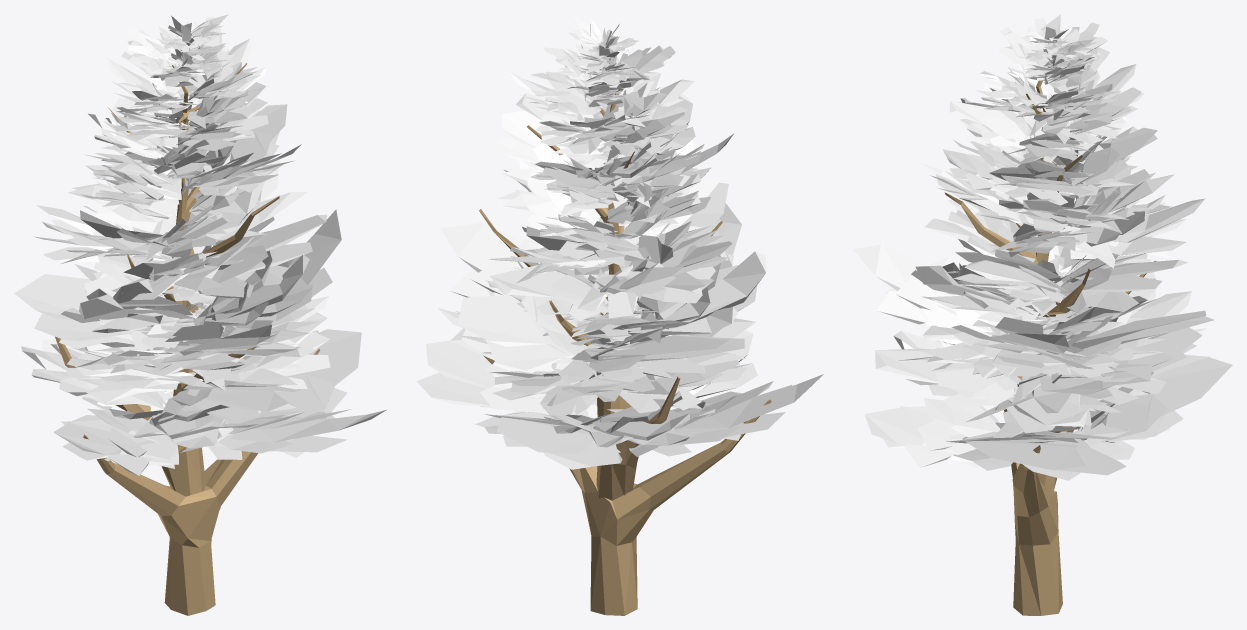
File: SnowtulipB-1.fbx
3 views of the same model, side by side, from view 1: azimuth 30°, elevation 25°; view 2: azimuth 150°, elevation 25°; view 3: azimuth 270°, elevation 25° (orthographic).
Parts seen in each view (by area): view 1: leaves.007, trunk.003; view 2: leaves.007, trunk.003; view 3: leaves.007, trunk.003.
Part boxes in pixels (x1,y1,x2,y2): leaves.007: (14, 14, 386, 475); trunk.003: (55, 63, 320, 615); leaves.007: (416, 14, 823, 469); trunk.003: (479, 80, 771, 615); leaves.007: (853, 14, 1232, 480); trunk.003: (944, 66, 1156, 615).
Bounding box in the file's own units: 525 × 869 × 507.
